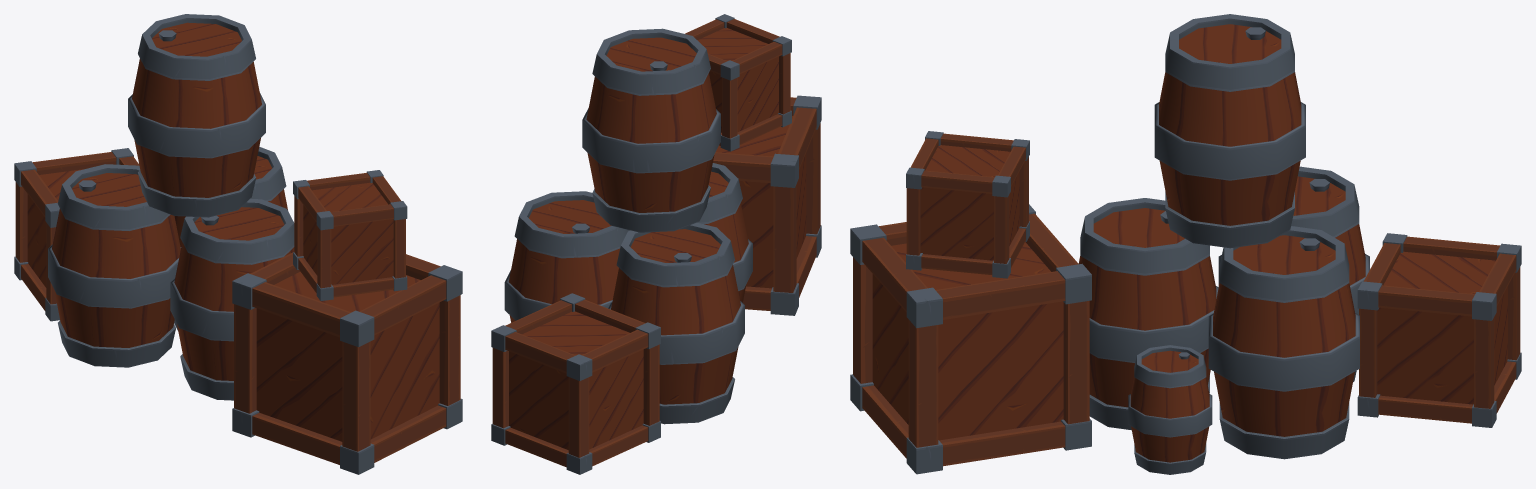
Rendered from BarrelCluster3.fbx.
3 views of the same model, side by side, from view 1: azimuth 30°, elevation 25°; view 2: azimuth 150°, elevation 25°; view 3: azimuth 270°, elevation 25° (orthographic). The views are drawn at different scales.
Parts seen in each view (by area): view 1: BarrelCluster3; view 2: BarrelCluster3; view 3: BarrelCluster3.
Part boxes in pixels (<box>): BarrelCluster3: <box>14,14,462,474</box>; BarrelCluster3: <box>491,14,821,474</box>; BarrelCluster3: <box>850,14,1521,474</box>.
Bounding box in the file's own units: 244 × 296 × 497.
